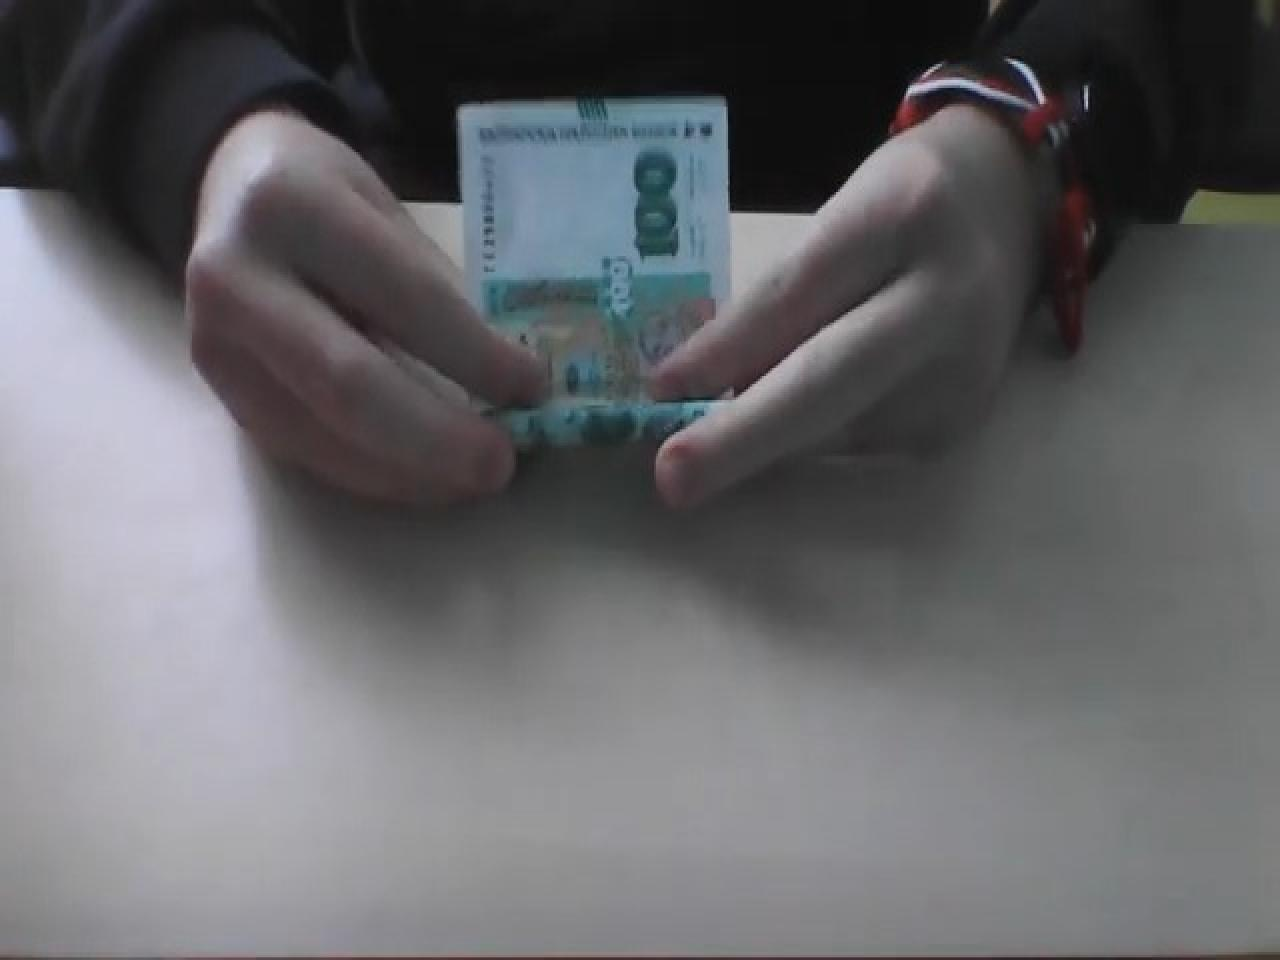100leva: (454, 91, 734, 459)
